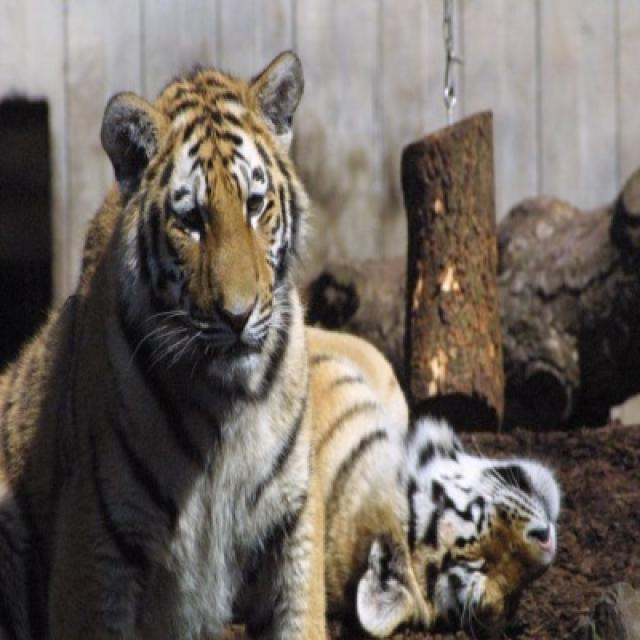Tiger: (3, 47, 323, 638), (305, 329, 554, 638)
